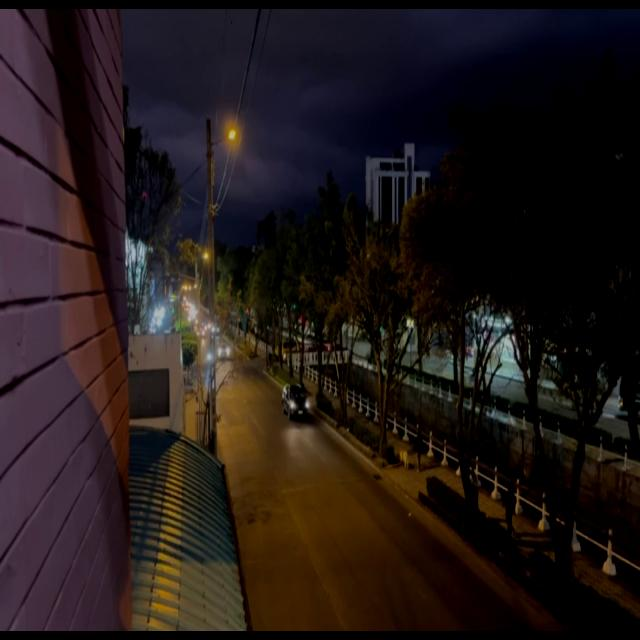SUV: (283, 386, 308, 420)
